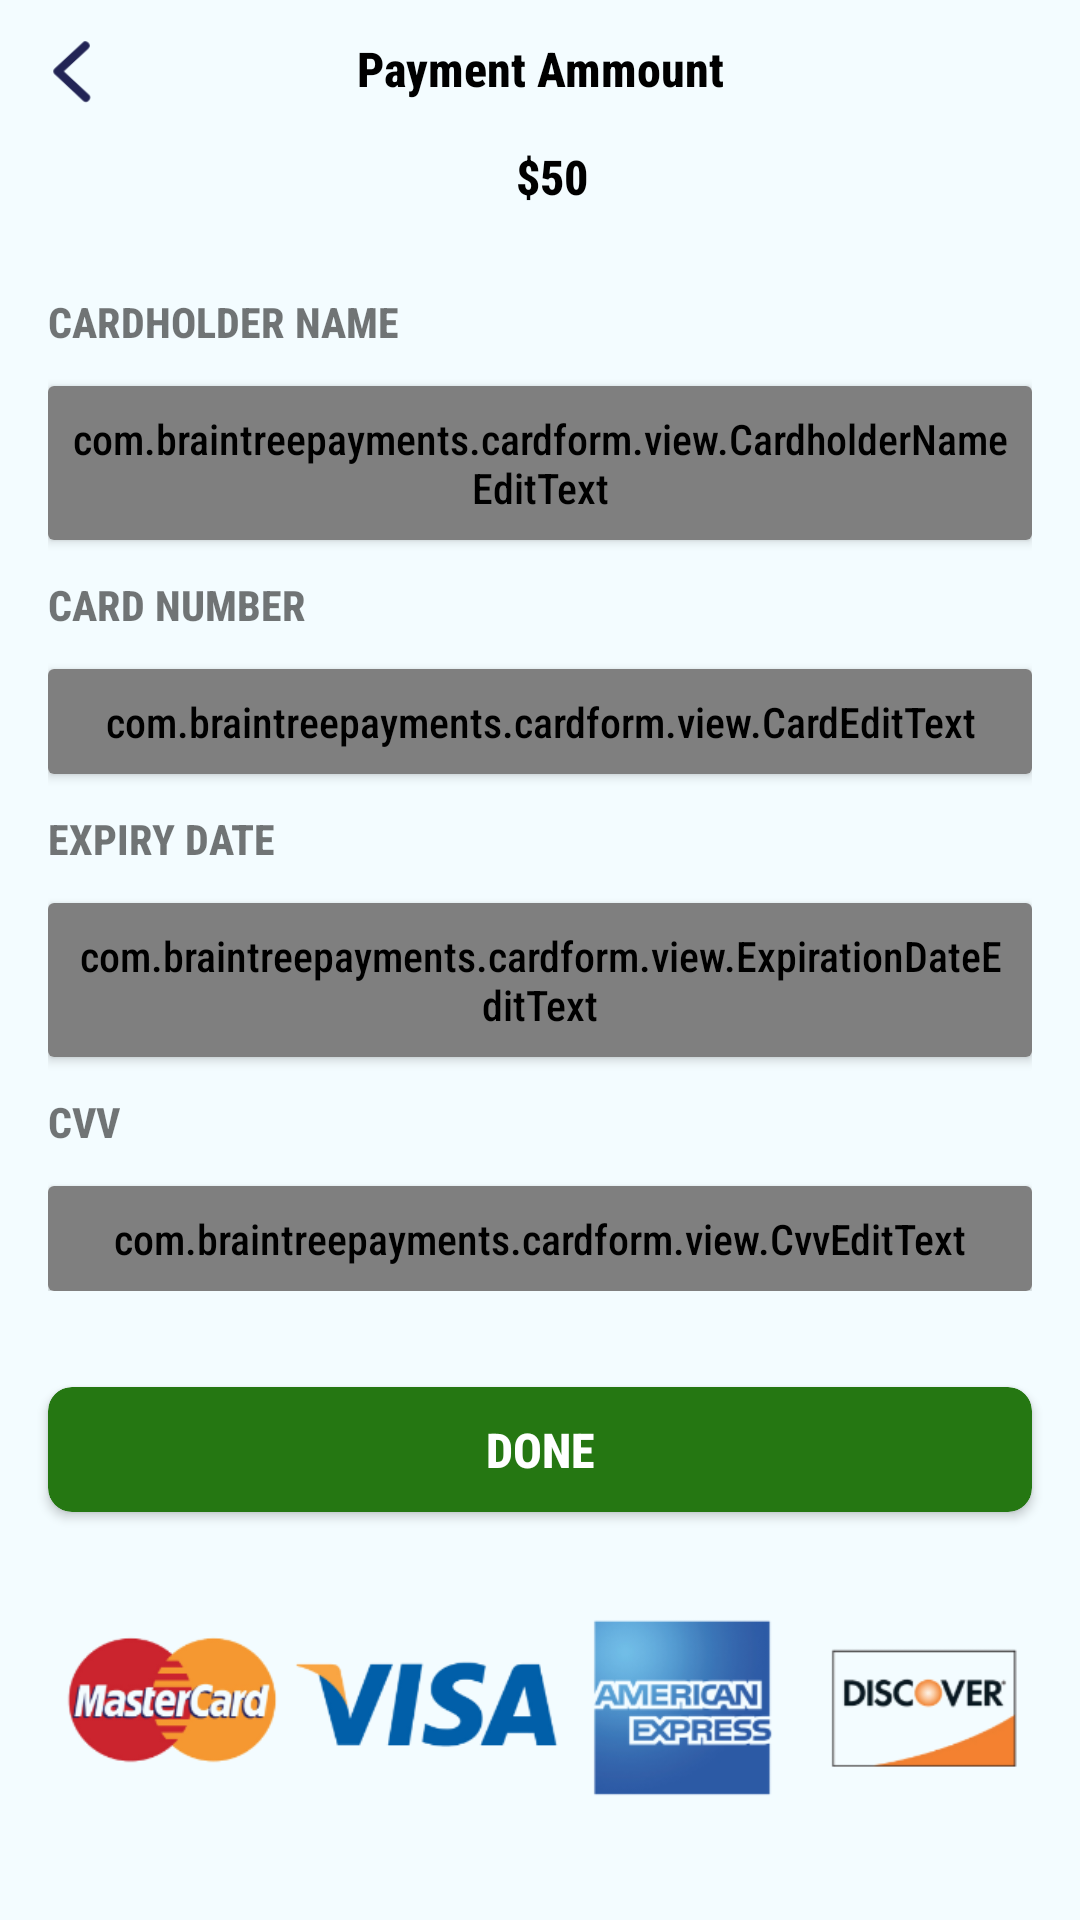

Where icons sit on this 1080×1920 app screen, as [x1,y1,x2,y2]:
back: [53,41,91,103]
